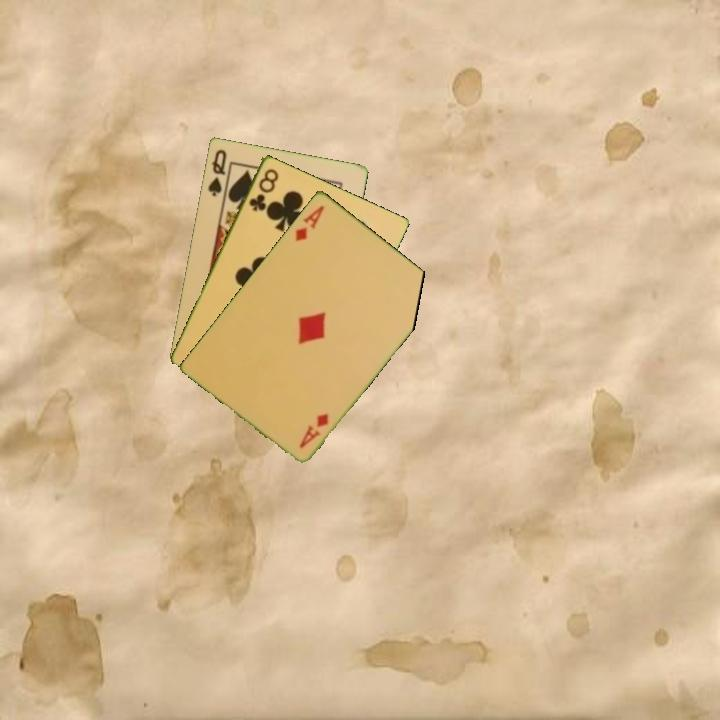8c: (245, 165, 281, 214)
Ad: (291, 201, 327, 244), (295, 409, 331, 451)
Qs: (204, 145, 229, 199)
